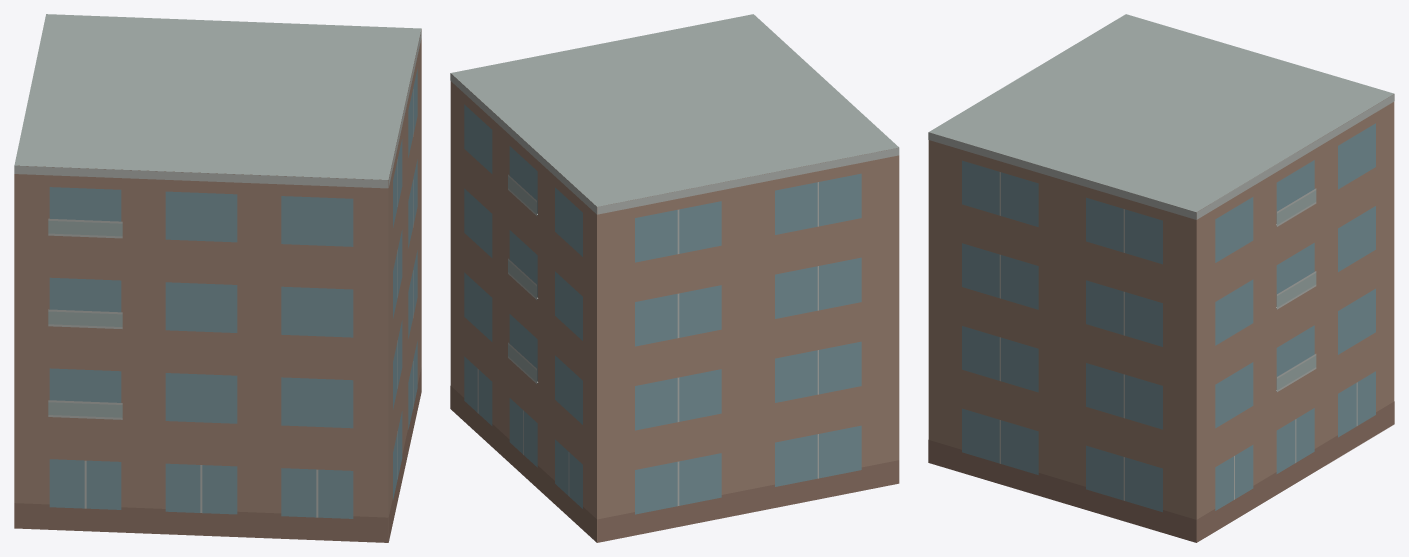
File: survey-upis-32525864.glb
3 renders of one model, left to right at view 1: azimuth 30°, elevation 25°; view 2: azimuth 150°, elevation 25°; view 3: azimuth 270°, elevation 25°, orthographic. The views are drawn at different scales.
Visible parts, largest first — view 1: survey-upis-32525864.tmp; view 2: survey-upis-32525864.tmp; view 3: survey-upis-32525864.tmp.
Boxes of the visible parts, box(x1,y1,x2,y2) form: survey-upis-32525864.tmp: box(14, 14, 421, 542); survey-upis-32525864.tmp: box(450, 14, 899, 542); survey-upis-32525864.tmp: box(928, 14, 1394, 542).
Bounding box in the file's own units: 13.51 × 10.5 × 13.42.
